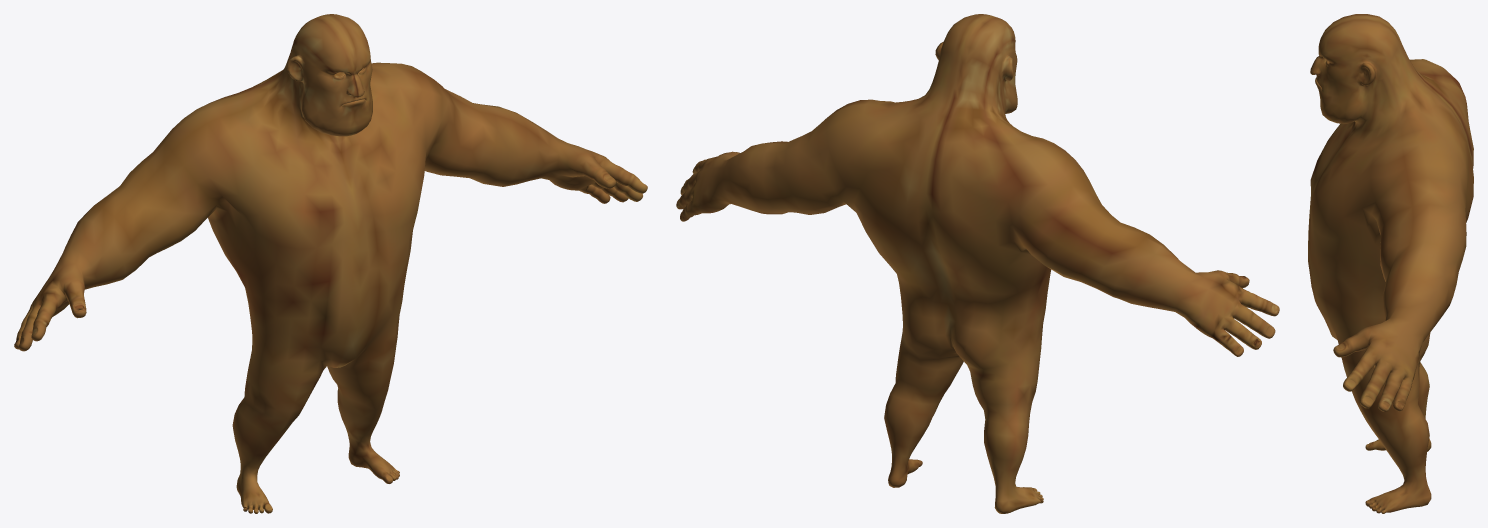
File: sickBody.glb
The picture shows the model from 3 angles, left to right: view 1: azimuth 30°, elevation 25°; view 2: azimuth 150°, elevation 25°; view 3: azimuth 270°, elevation 25°; orthographic projection. The views are drawn at different scales.
Visible parts, largest first — view 1: Body; view 2: Body; view 3: Body.
Boxes of the visible parts, box(x1,y1,x2,y2) form: Body: box(14, 14, 647, 513); Body: box(676, 14, 1279, 513); Body: box(1308, 14, 1473, 513).
Bounding box in the file's own units: 4.35 × 3.22 × 1.05.
